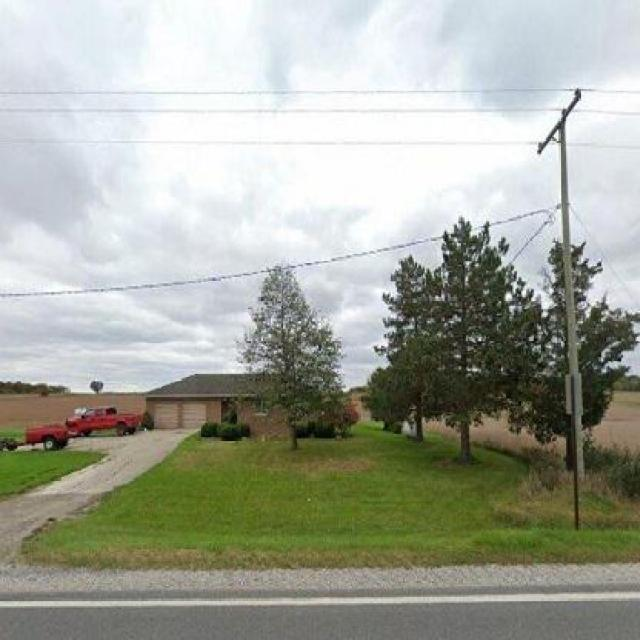pole: (526, 88, 603, 534)
